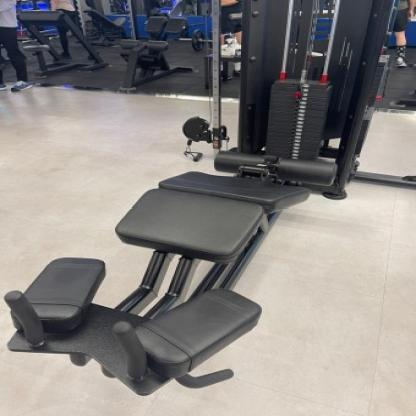reg curl machine: (3, 0, 416, 401)
